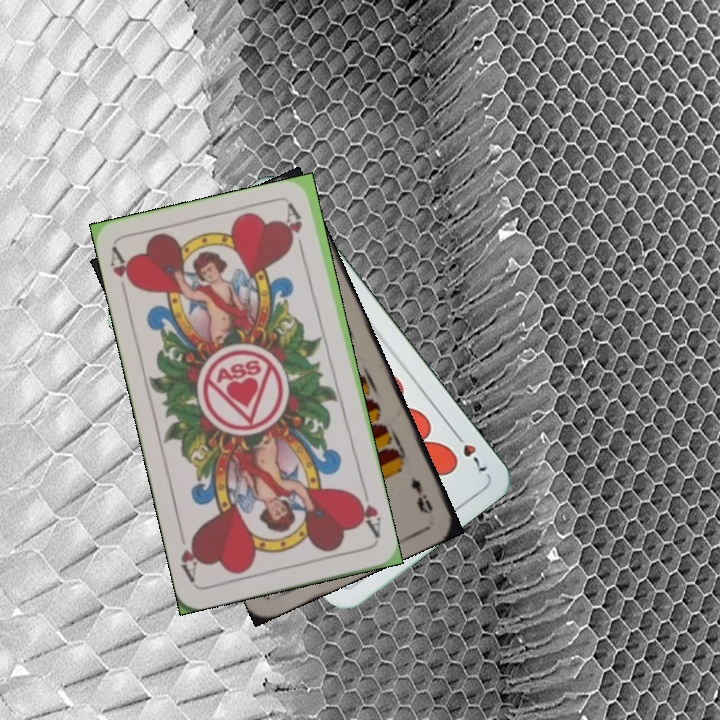E9: (407, 474, 436, 518)
H7: (449, 426, 490, 475)
HA: (106, 244, 139, 303), (350, 484, 384, 541)
